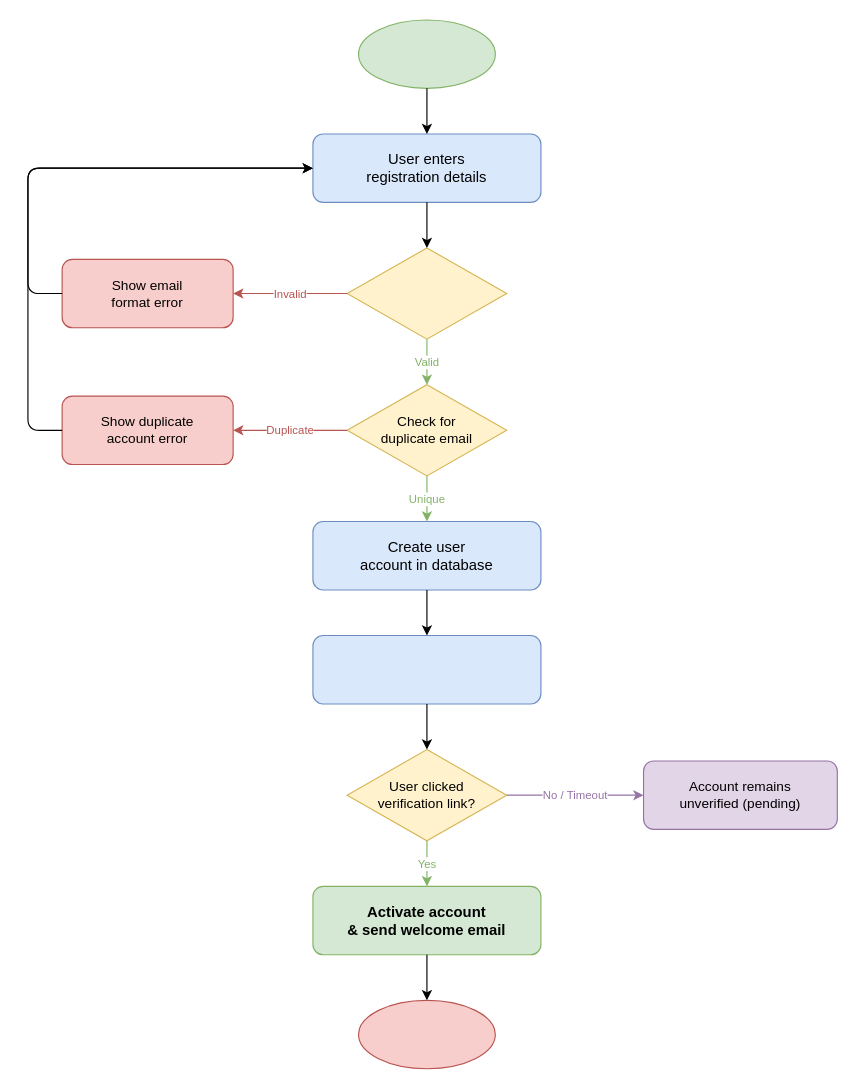
Image size: 857x1089. Some labels were removed from this diagram. Each missing label, with the centre of its shape:
"End" goes at [426,1034].
"Send email verification link" goes at [426,669].
"Start" goes at [426,53].
"Validate email format" goes at [426,293].
